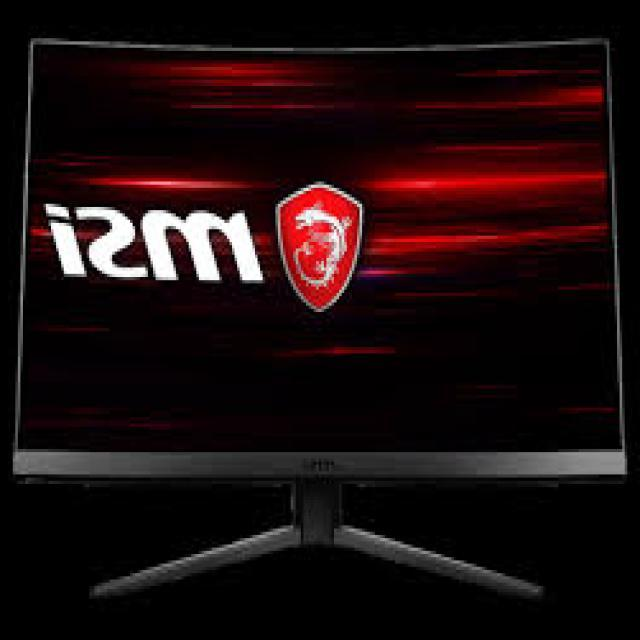monitor: (16, 37, 627, 634)
